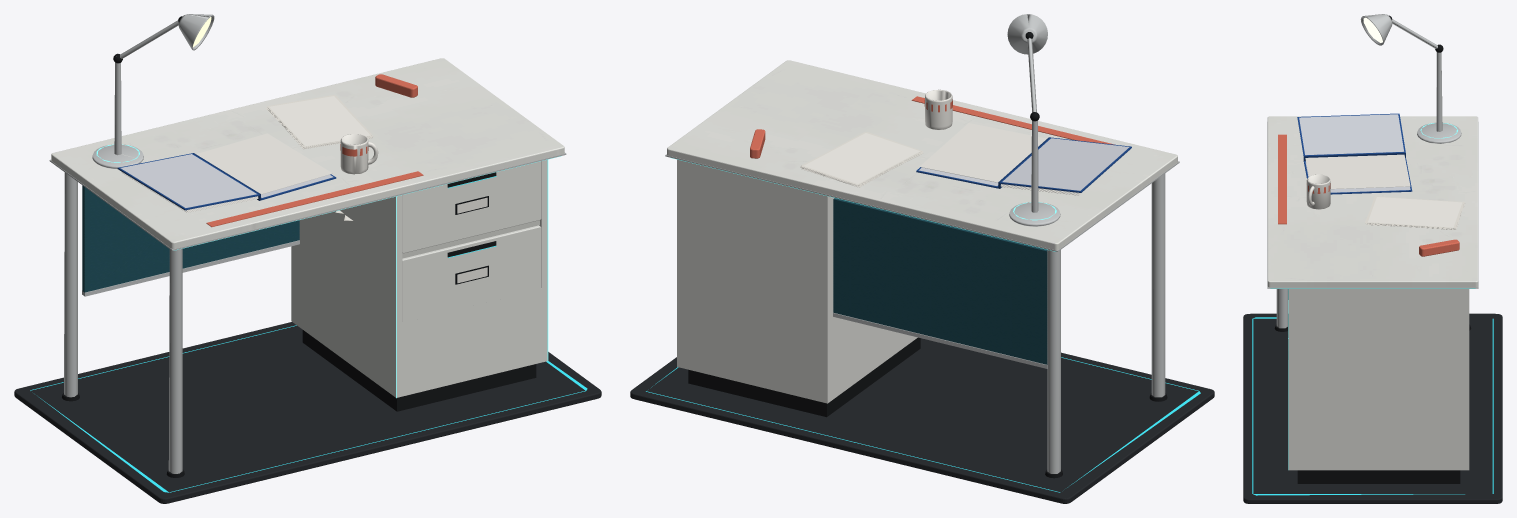
The picture shows the model from 3 angles, left to right: view 1: azimuth 30°, elevation 25°; view 2: azimuth 150°, elevation 25°; view 3: azimuth 270°, elevation 25°; orthographic projection. The views are drawn at different scales.
Parts seen in each view (by area): view 1: base_peca, mesa_tampo, gaveteiro_lateral_esq, gaveteiro_frente_baixo, gaveta_material_frente, mesa_painel_pudor, gaveta_recepcao_frente, mesa, pasta_miolo, pasta_capa_forro, gaveteiro_rodape, monte_folhas_area_texto (+10 smaller); view 2: base_peca, mesa_tampo, gaveteiro_traseira, mesa_painel_pudor, mesa, gaveteiro_lateral_esq, pasta_miolo, pasta_capa_forro, gaveteiro_rodape, monte_folhas_area_texto, gaveteiro_lateral_dir, luminaria_cupula (+7 smaller); view 3: gaveteiro_lateral_dir, mesa_tampo, base_peca, pasta_capa_forro, pasta_miolo, gaveteiro_rodape, monte_folhas_area_texto, base_peca_linha, mesa_risca_coral, mesa_tampo_borda, caneca_corpo, luminaria_base (+7 smaller).
Boxes of the visible parts, x1,y1,x2,y2 form: base_peca: (14, 322, 601, 503); mesa_tampo: (51, 58, 564, 248); gaveteiro_lateral_esq: (291, 195, 402, 397); gaveteiro_frente_baixo: (402, 288, 541, 396); gaveta_material_frente: (402, 225, 541, 322); mesa_painel_pudor: (82, 185, 299, 292); gaveta_recepcao_frente: (402, 161, 541, 253); mesa: (62, 172, 184, 477); pasta_miolo: (196, 133, 332, 194); pasta_capa_forro: (120, 154, 256, 208); gaveteiro_rodape: (302, 330, 536, 411); monte_folhas_area_texto: (269, 96, 370, 146); base_peca: (630, 338, 1214, 503); mesa_tampo: (667, 60, 1177, 249); gaveteiro_traseira: (683, 161, 821, 401); mesa_painel_pudor: (833, 198, 1047, 364); mesa: (1045, 173, 1167, 478); gaveteiro_lateral_esq: (821, 195, 917, 403); pasta_miolo: (919, 123, 1046, 182); pasta_capa_forro: (1002, 138, 1129, 190); gaveteiro_rodape: (688, 337, 920, 417); monte_folhas_area_texto: (804, 133, 919, 183); gaveteiro_lateral_dir: (677, 159, 682, 368); luminaria_cupula: (1007, 14, 1047, 54); gaveteiro_lateral_dir: (1288, 289, 1469, 470); mesa_tampo: (1267, 116, 1478, 287); base_peca: (1243, 313, 1502, 503); pasta_capa_forro: (1299, 114, 1404, 155); pasta_miolo: (1305, 154, 1410, 189); gaveteiro_rodape: (1297, 470, 1460, 483); monte_folhas_area_texto: (1368, 197, 1462, 227); base_peca_linha: (1252, 317, 1493, 495); mesa_risca_coral: (1278, 134, 1286, 224); mesa_tampo_borda: (1267, 122, 1478, 288); caneca_corpo: (1306, 174, 1330, 209); luminaria_base: (1417, 122, 1461, 143).
Size of the model in its own units: 1.46 by 1.29 by 0.86.
Materials: 28 (2 with a texture image).
